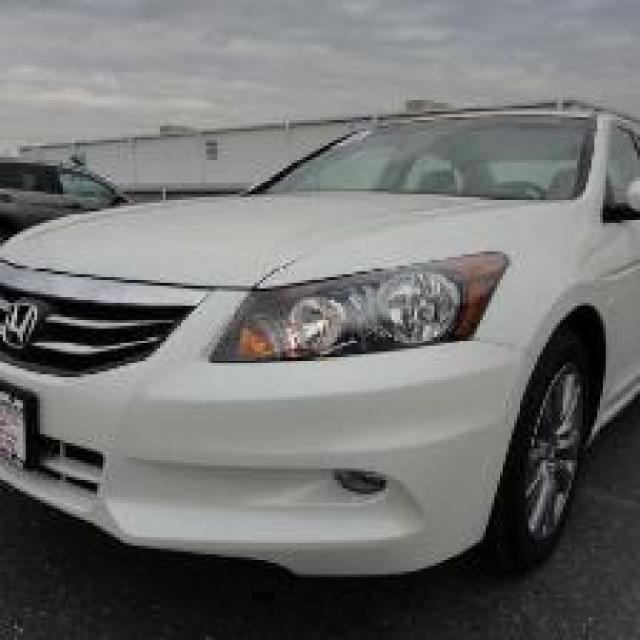damaged: (232, 252, 312, 298)
